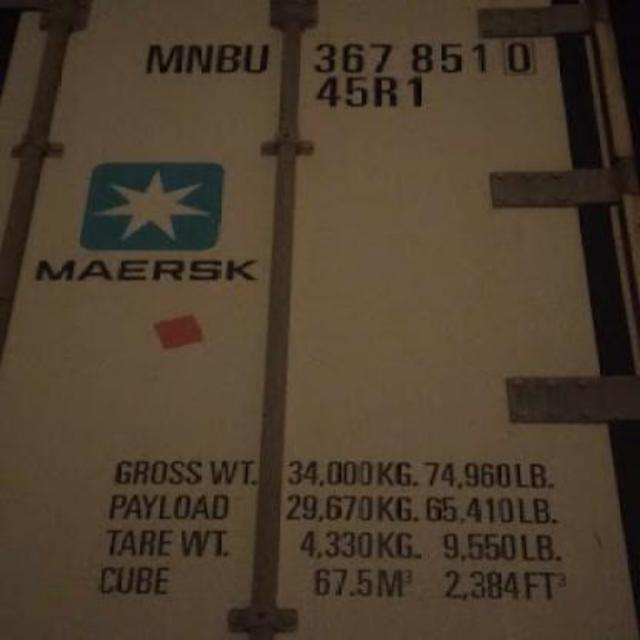0: (502, 42, 532, 74)
1: (468, 40, 489, 76)
3: (312, 40, 338, 74)
5: (440, 42, 464, 74)
6: (342, 40, 366, 76)
7: (366, 40, 392, 76)
8: (414, 42, 432, 74)
B: (216, 44, 238, 74)
M: (144, 42, 186, 76)
N: (186, 42, 214, 74)
U: (246, 44, 270, 74)
